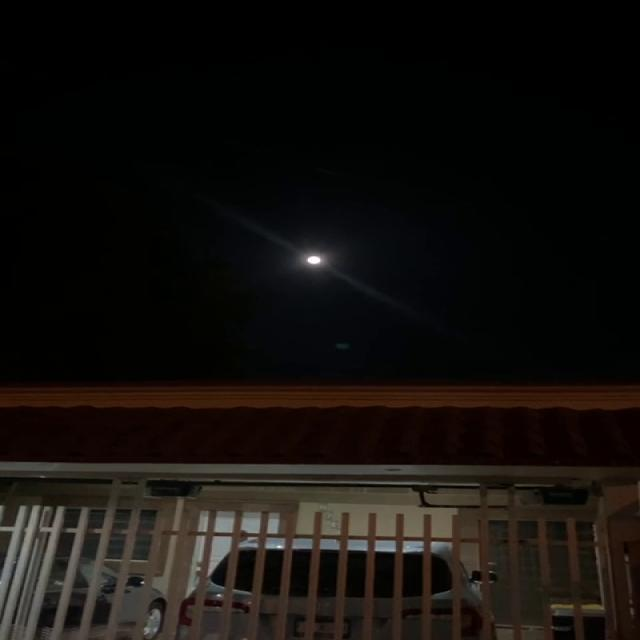moon: (294, 243, 336, 267)
